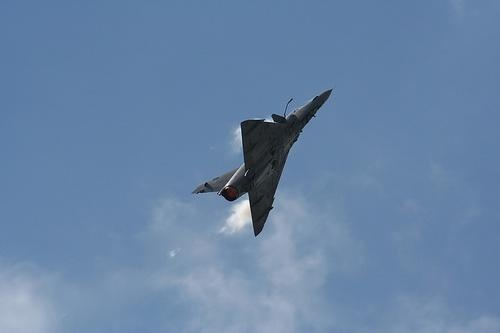aeroplane: (187, 83, 337, 236)
